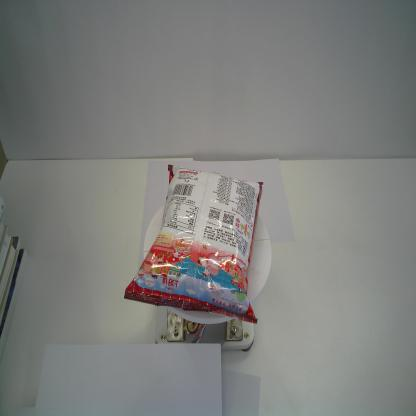Puffed Food: (124, 162, 264, 326)
